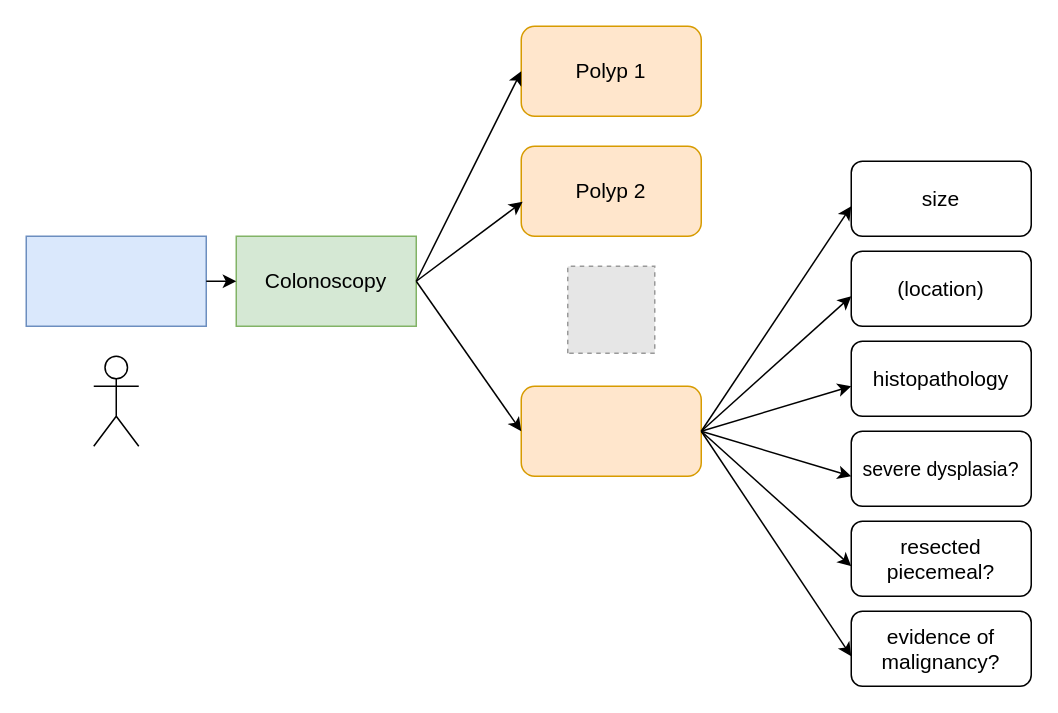
Image size: 1058x713. Some labels were removed from this diagram. Grey dashed boxes stand in for pictures. The box of each missing label's shape, as (x1, y1, x2, y2) in pixels:
Patient: (25, 235, 206, 326)
Polyp N: (520, 385, 701, 476)
